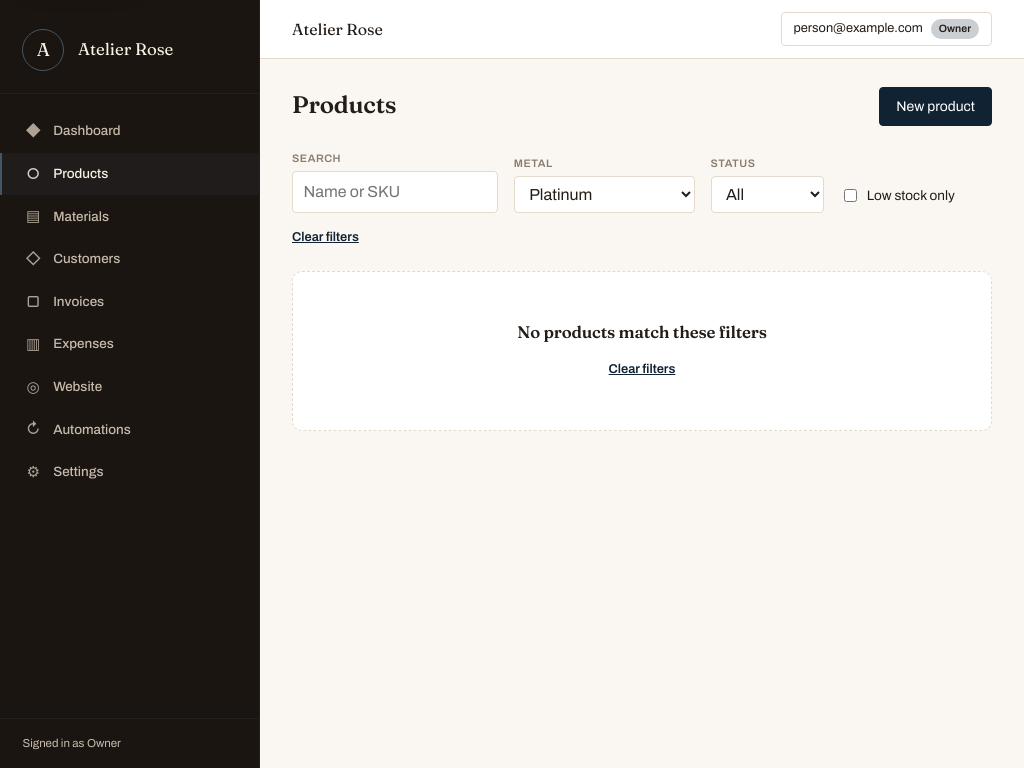
Scenario: products list › no matches offers to clear the filters
Expected: the heading "No products match these filters" is shown, [517,320,767,345]
What coordinates should you click on to do the following:
click the button "Clear filters" below "Metal"
I would click on:
 (325, 238)
Its box is [292,225,359,251].
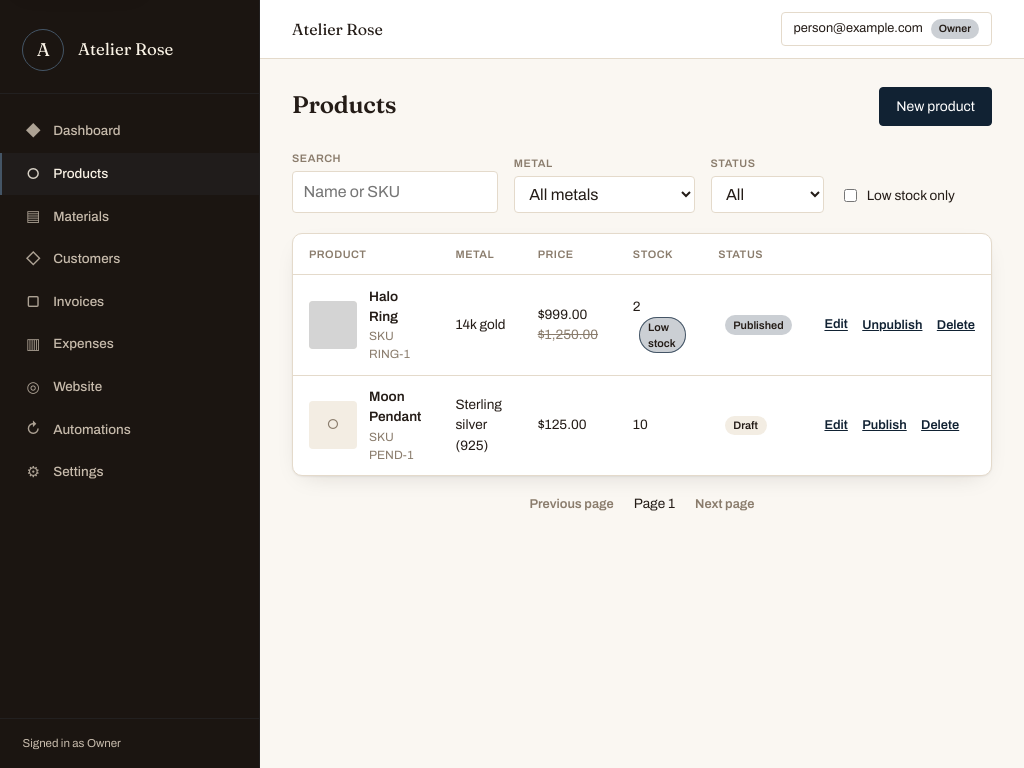
Expected: the link "Halo Ring" is shown, [369,289,398,324]
